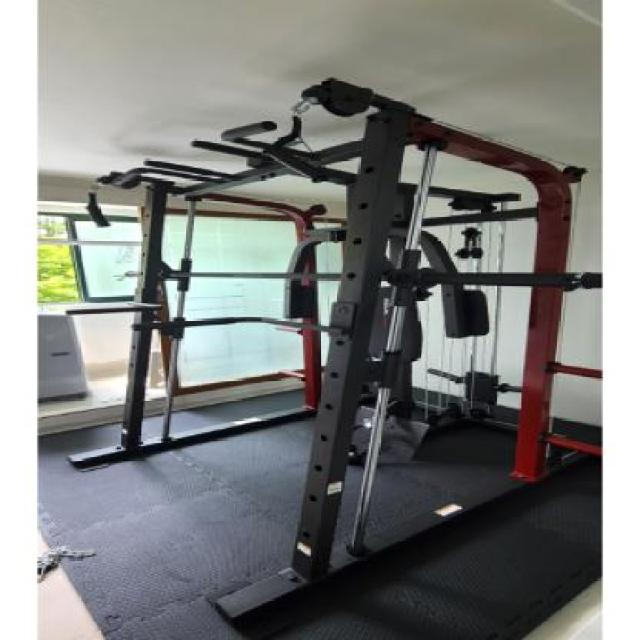smith machine: (77, 77, 601, 631)
